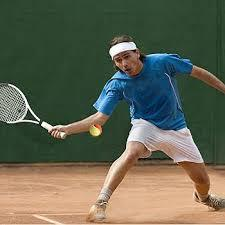ball_tennis: (89, 123, 102, 137)
